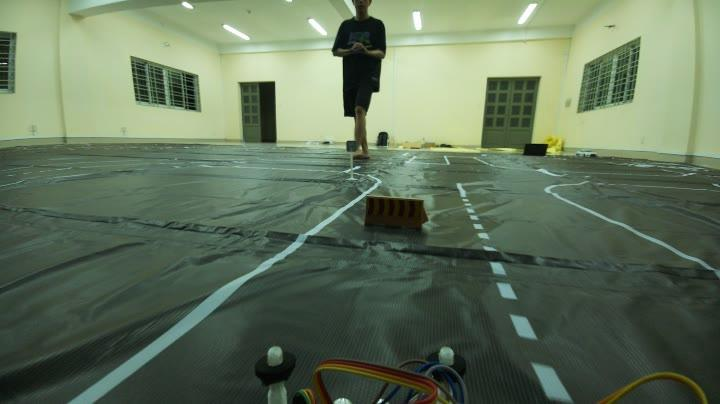roadblock: (360, 188, 434, 240)
